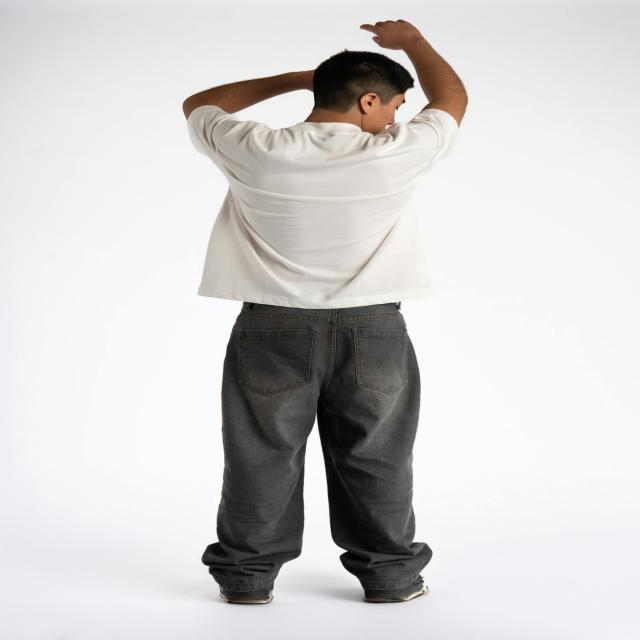stand: (160, 34, 462, 604)
